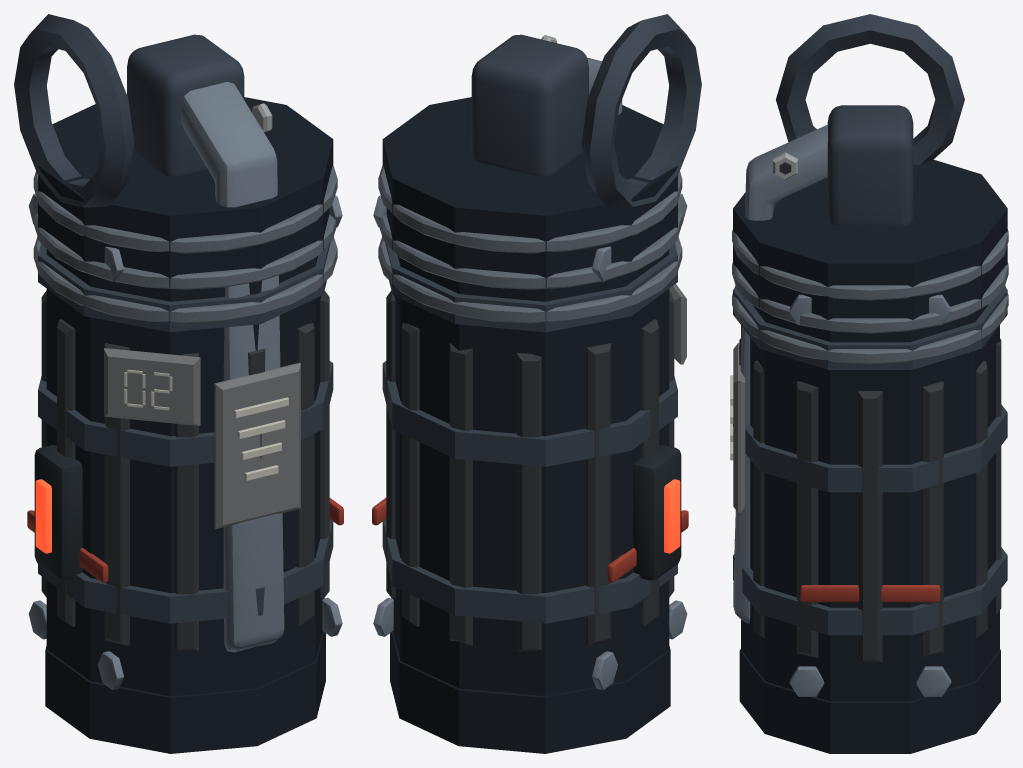
The model's file is grenade.glb.
3 views of the same model, side by side, from view 1: azimuth 30°, elevation 25°; view 2: azimuth 150°, elevation 25°; view 3: azimuth 270°, elevation 25° (orthographic). The views are drawn at different scales.
Parts seen in each view (by area): view 1: body, spoon, pin; view 2: body, pin; view 3: body, pin, spoon.
Boxes of the visible parts, left/top/right/bottom form: body: left=27, top=34, right=343, bottom=753; spoon: left=181, top=81, right=284, bottom=652; pin: left=14, top=14, right=134, bottom=207; body: left=372, top=34, right=688, bottom=753; pin: left=581, top=14, right=701, bottom=207; body: left=730, top=105, right=1008, bottom=753; pin: left=776, top=14, right=964, bottom=165; spoon: left=733, top=124, right=827, bottom=623.
Bounding box in the file's own units: 0.1201 × 0.29 × 0.1148.
